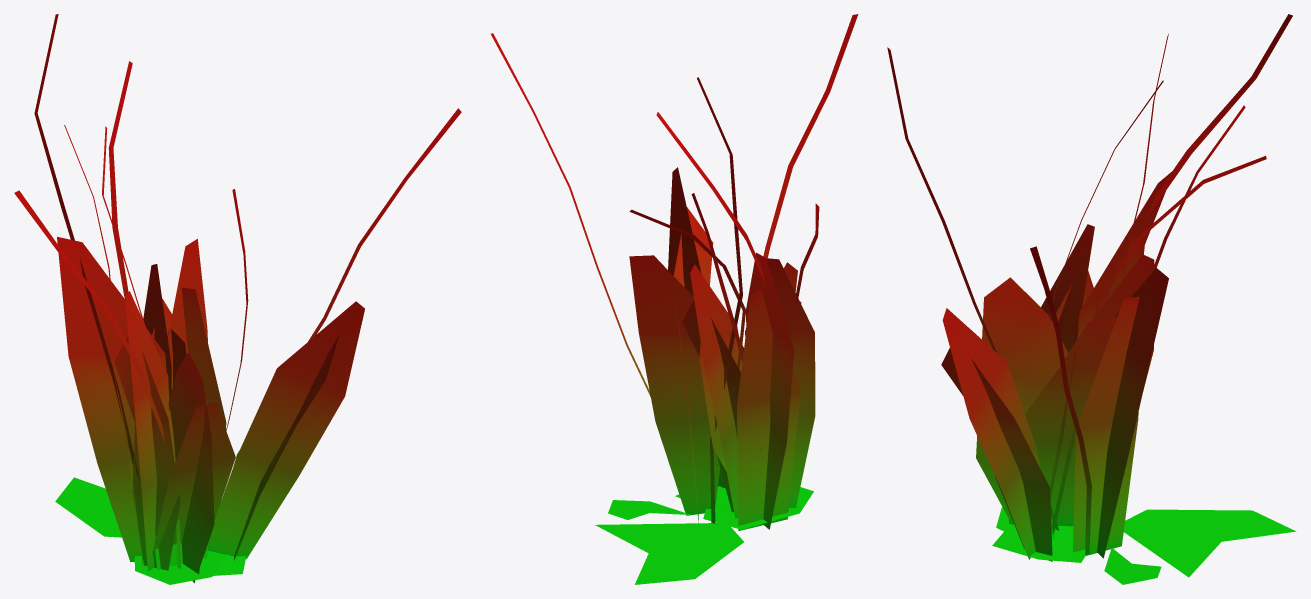
File: Var10_LOD1.fbx
3 renders of one model, left to right at view 1: azimuth 30°, elevation 25°; view 2: azimuth 150°, elevation 25°; view 3: azimuth 270°, elevation 25°, orthographic. The views are drawn at different scales.
Visible parts, largest first — view 1: _f1f9_Var10_LOD1; view 2: _f1f9_Var10_LOD1; view 3: _f1f9_Var10_LOD1.
Part boxes in pixels (box(x1,y1,x2,y2)): _f1f9_Var10_LOD1: box(14, 14, 461, 584); _f1f9_Var10_LOD1: box(490, 14, 858, 584); _f1f9_Var10_LOD1: box(887, 14, 1296, 584).
Bounding box in the file's own units: 14.45 × 17.23 × 12.34.
